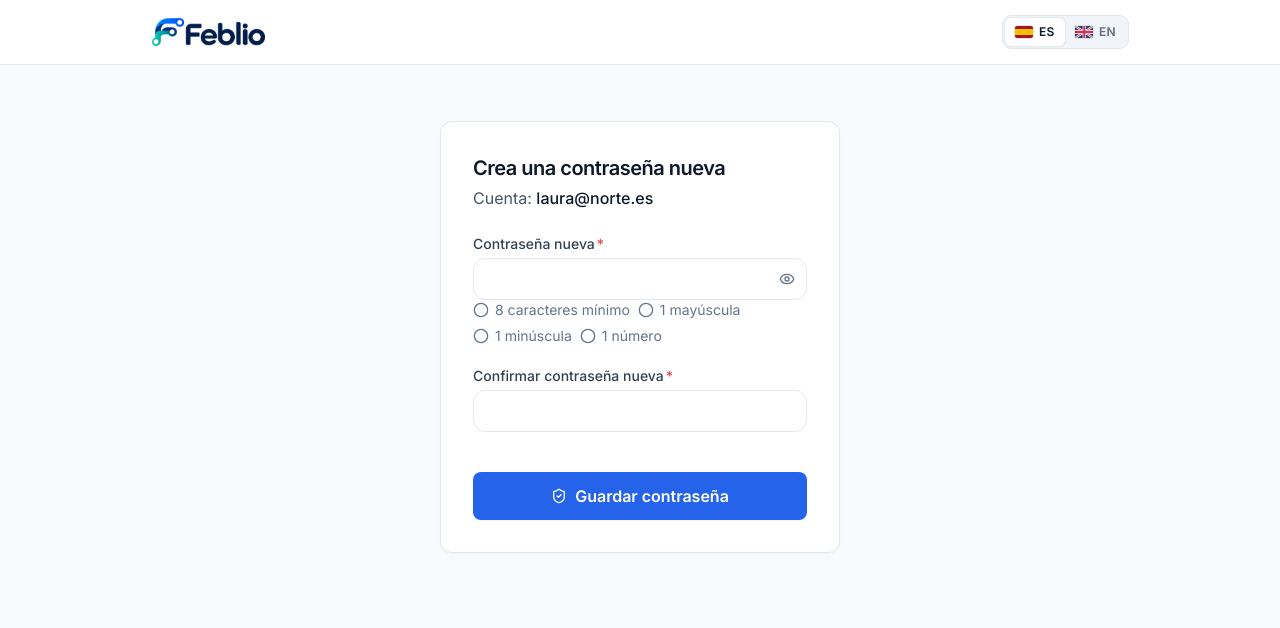
<ResetPasswordPage /> › error del servidor al actualizar se muestra de forma clara
The width and height of the screenshot is (1280, 628).
Type "Segura123" into the password field labelled "Contraseña nueva*". click: (640, 279)
box: [473,258,807,300]
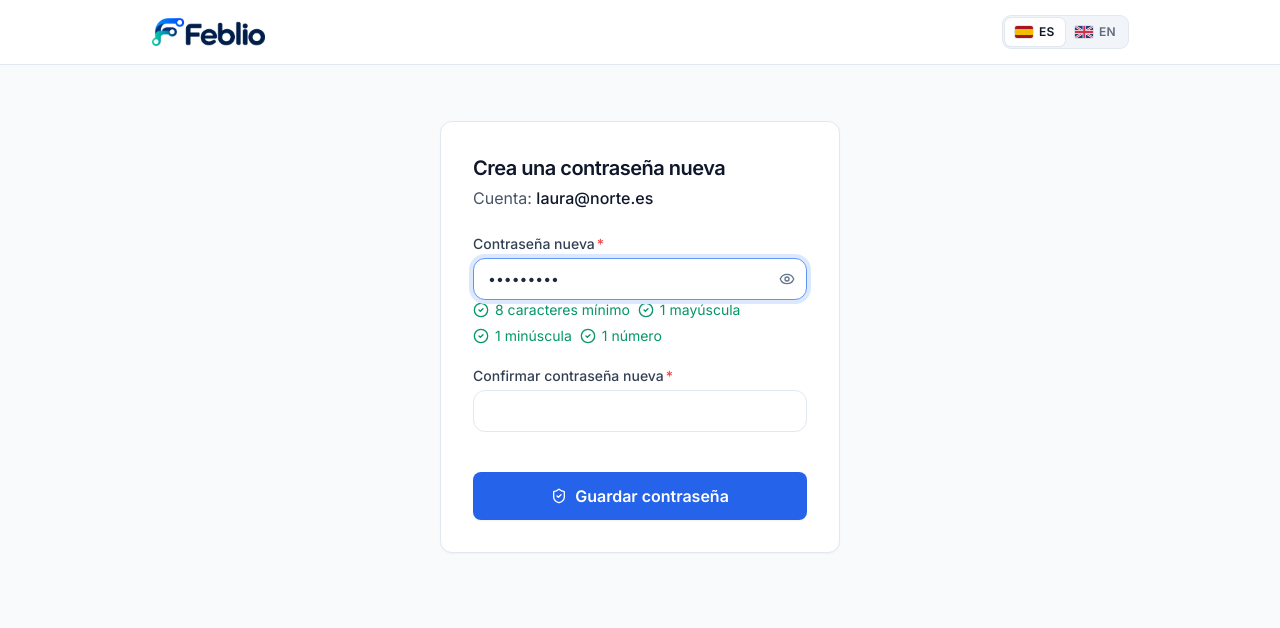
Type "Segura123" into the password field labelled "Confirmar contraseña nueva*". click: (640, 411)
box: [473,390,807,432]
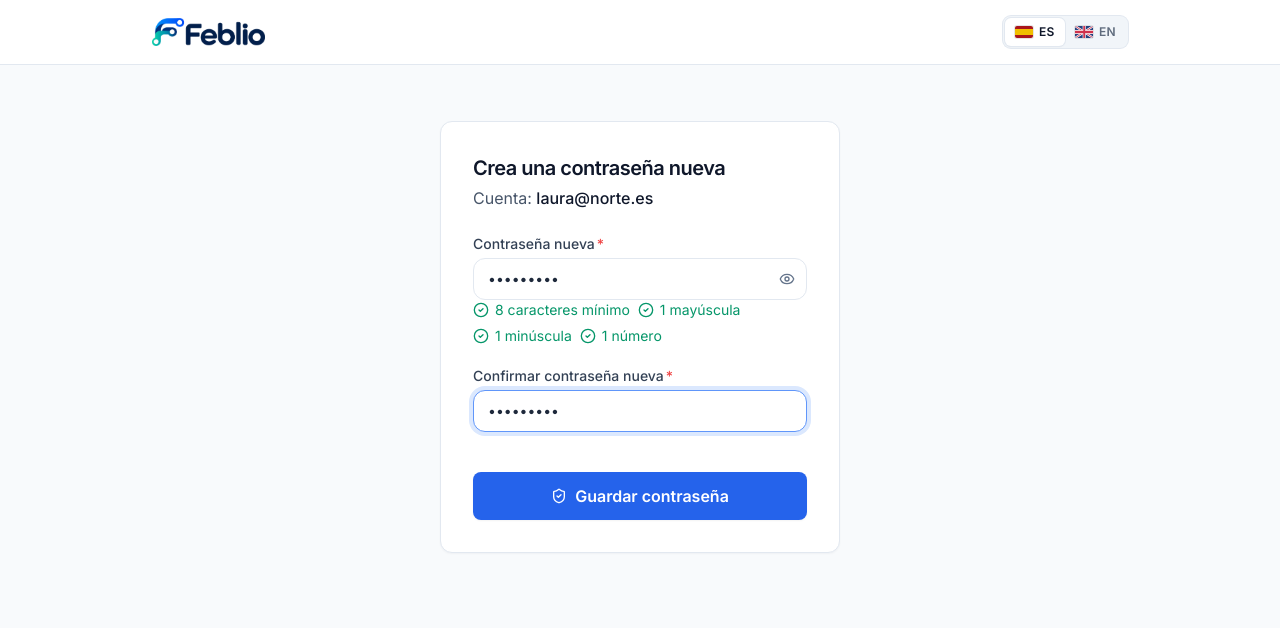
Click the button "Guardar contraseña". click: (640, 496)
box: [473,472,807,520]
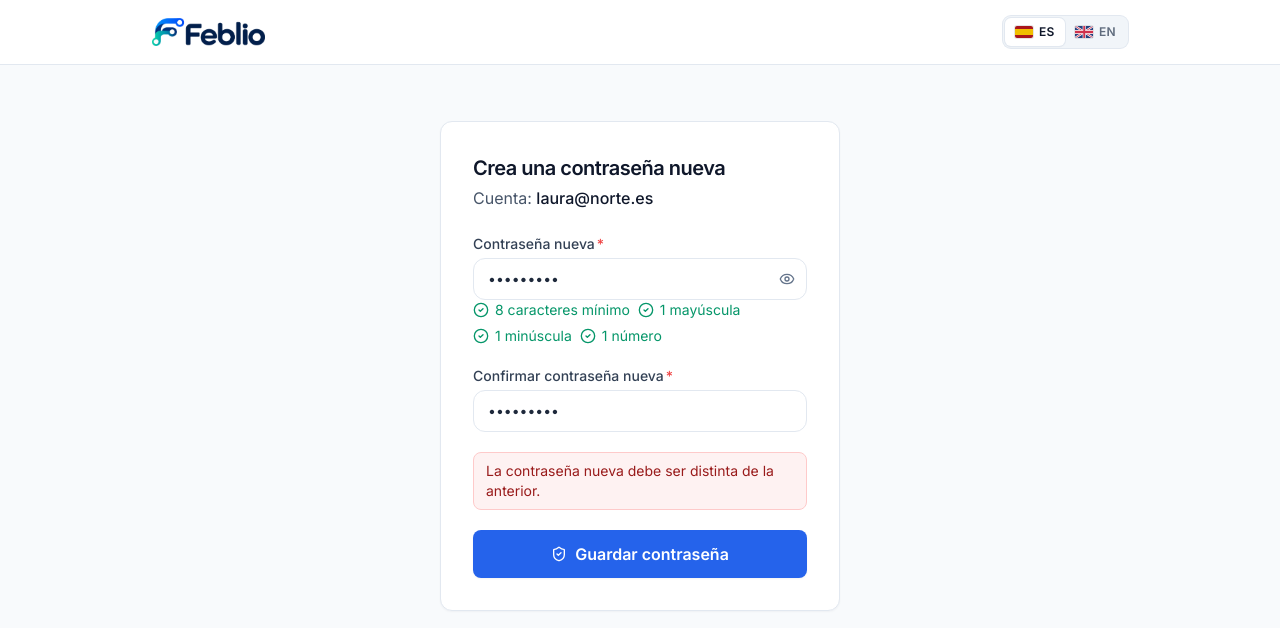
expect the message shows "distinta de la anterior": met, box [486,462,774,499]
